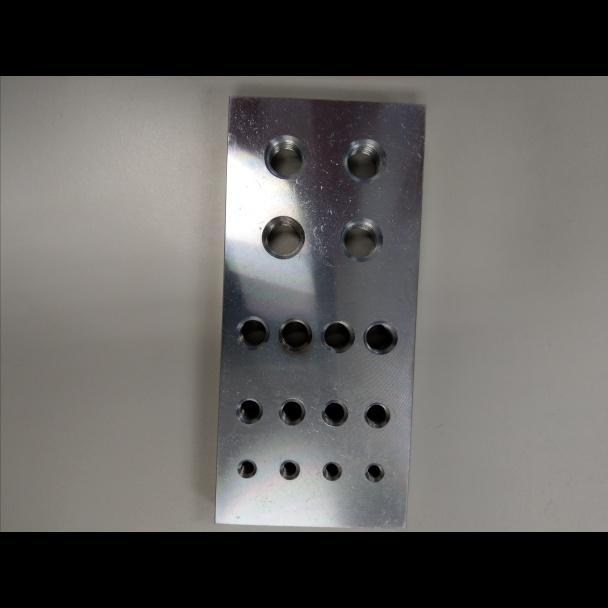hole: (338, 215, 385, 264), (261, 214, 307, 262), (262, 133, 307, 182), (341, 137, 387, 183), (361, 319, 399, 356), (318, 318, 355, 355), (277, 317, 313, 355), (234, 314, 270, 352), (320, 397, 349, 429), (277, 397, 307, 427), (235, 396, 264, 427), (363, 401, 392, 431), (363, 462, 385, 484), (278, 459, 300, 481), (321, 460, 342, 482), (237, 459, 257, 479)
